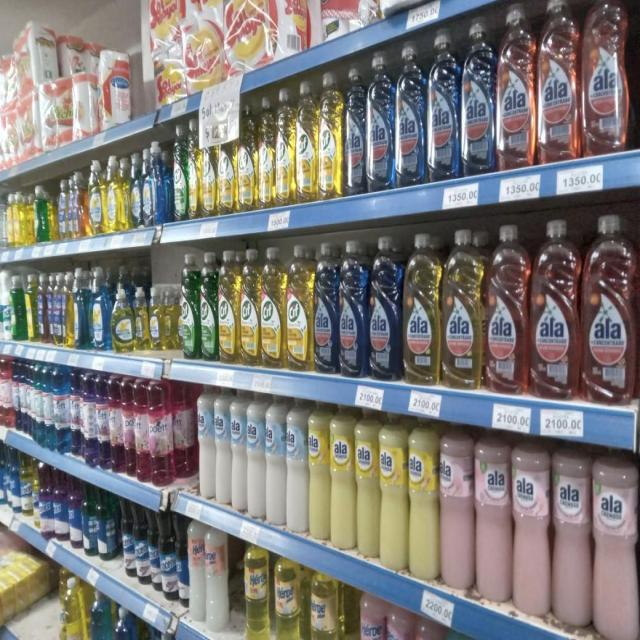ala_conc_amarillo: (442, 228, 483, 390), (403, 231, 440, 386)
ala_conc_azul: (461, 17, 495, 176), (427, 28, 460, 183), (369, 234, 401, 382), (396, 40, 426, 186), (339, 238, 367, 379), (367, 52, 395, 192), (314, 240, 338, 376), (344, 64, 366, 195)
ala_conc_rojo: (582, 211, 636, 405), (530, 218, 580, 400), (582, 0, 632, 156), (485, 222, 528, 396), (537, 0, 579, 164), (496, 3, 536, 170)
ala_crem_amarillo: (379, 412, 406, 573), (355, 408, 379, 561), (330, 404, 354, 553), (308, 401, 330, 544)
ala_crem_blanco: (246, 394, 265, 520), (197, 386, 214, 502), (214, 389, 230, 507), (231, 390, 246, 514)
ala_crem_rosado: (593, 452, 638, 640), (552, 447, 591, 635), (512, 439, 550, 619), (474, 433, 511, 605)
cif_conc_bot_amarilla: (286, 244, 313, 372), (319, 71, 343, 200), (261, 246, 285, 369), (296, 80, 318, 204), (218, 249, 239, 365), (240, 248, 260, 368), (275, 88, 295, 206), (238, 100, 257, 212), (258, 95, 275, 209), (218, 116, 236, 215), (201, 123, 217, 218), (187, 118, 200, 220)
cif_conc_botella_verde: (200, 251, 217, 362), (172, 123, 187, 222)
heroe: (242, 545, 271, 640), (205, 526, 230, 634), (273, 556, 302, 640), (309, 571, 339, 640), (188, 520, 205, 624), (359, 594, 385, 640), (385, 605, 412, 640), (413, 614, 443, 640), (443, 626, 478, 640)
magistral_con_amarillo: (112, 264, 134, 354), (87, 158, 104, 236), (134, 286, 148, 352), (149, 286, 162, 352)
magistral_con_azul: (88, 265, 110, 352), (114, 606, 138, 640)
